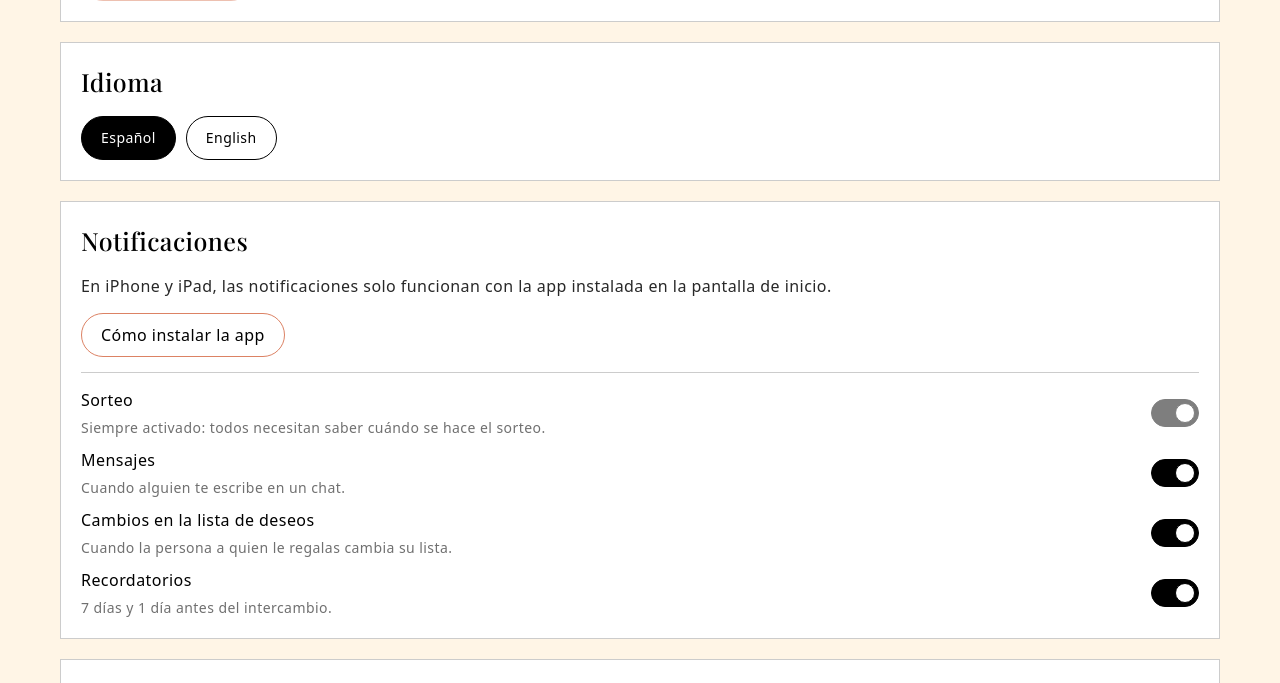
Test: Profile › Notifications › iPhone in Safari: the install guide instead of the enable button
The width and height of the screenshot is (1280, 683).
(page scrolled)
Expected: the text "solo funcionan con la app instalada" is shown, [81,275,832,297]
Click the button "Cómo instalar la app".
click(183, 335)  # box [81,313,285,357]
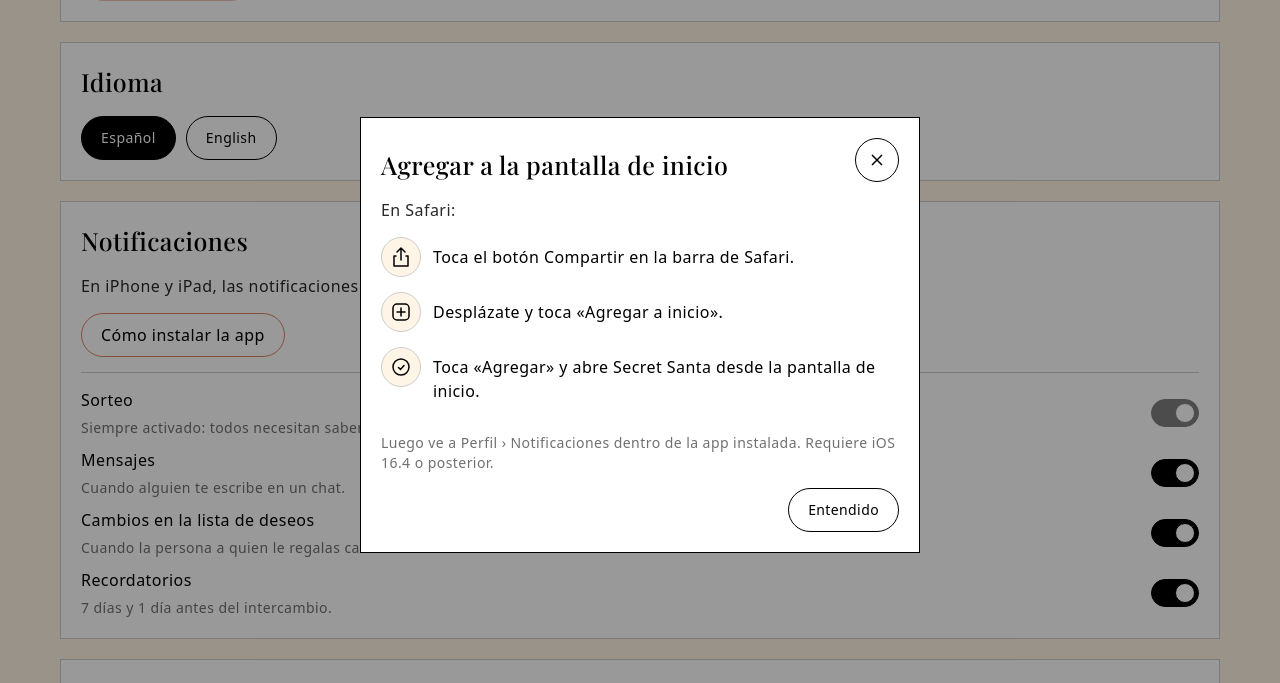
Expected: the text "Toca el botón Compartir en la barra de Safari." is shown, [433,237,794,269]
Click the button "Entendido".
click(844, 510)  # box [788,488,899,532]
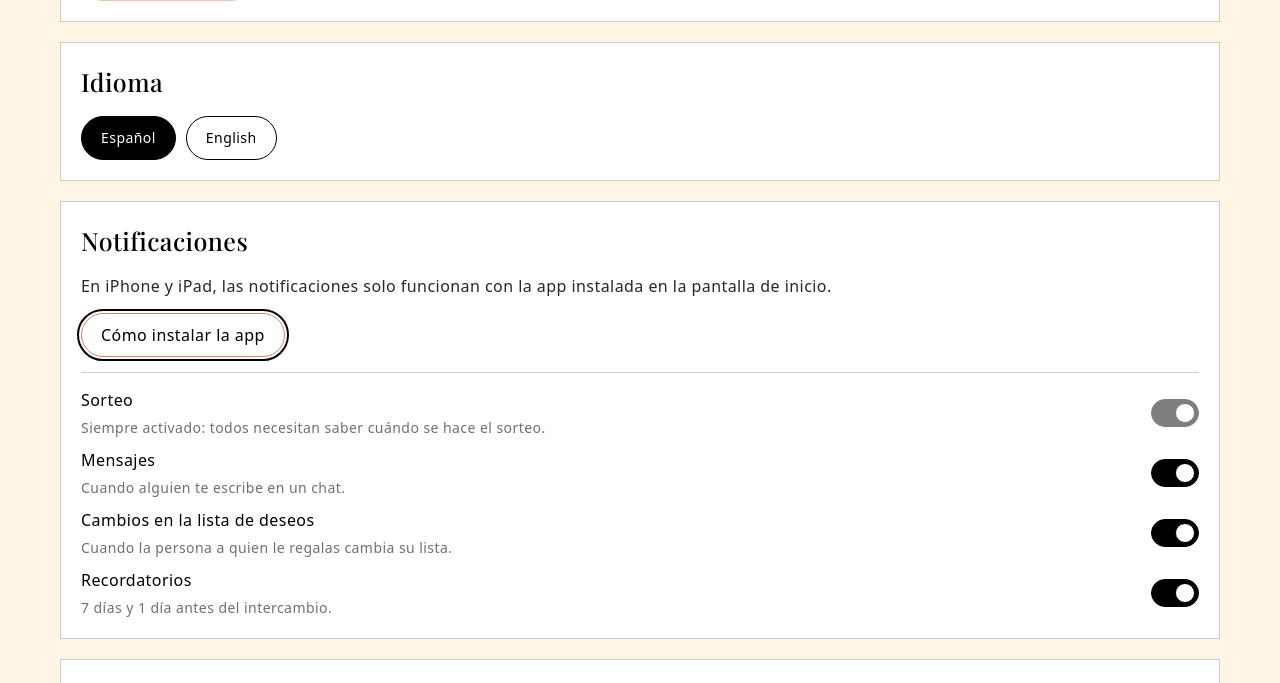
Expected: the dialog is gone
